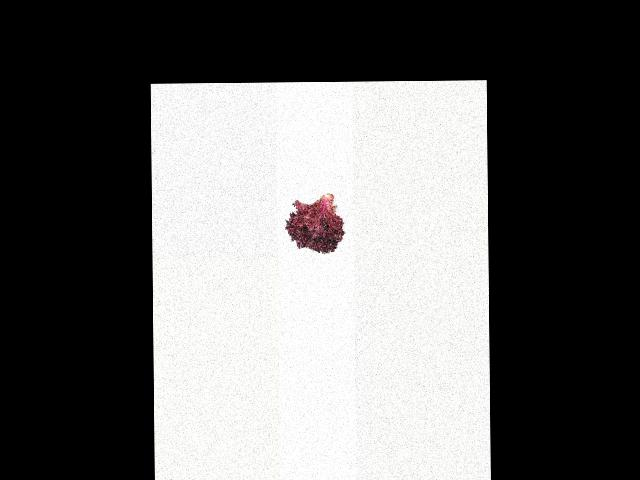lettuce: (283, 187, 342, 257)
